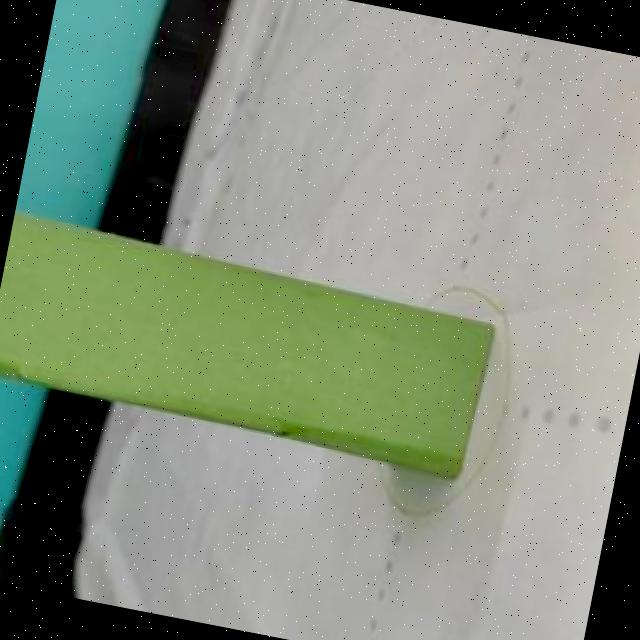greenbox: (0, 205, 501, 486)
